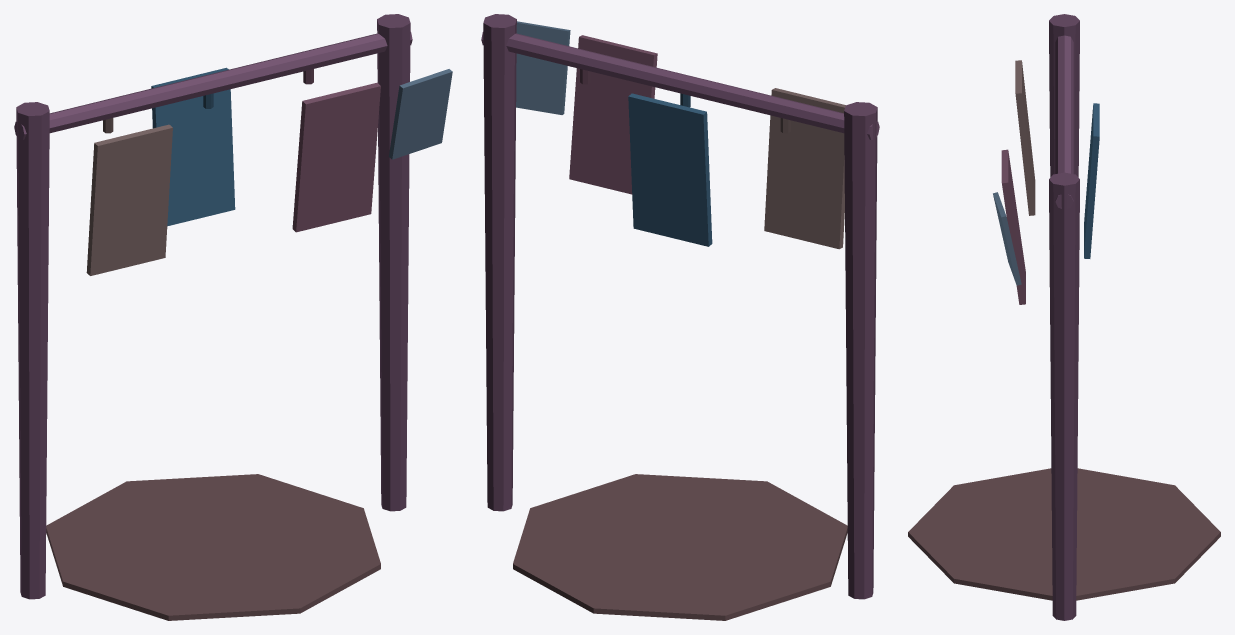
The model's file is prp_drying_rack_a.glb.
3 renders of one model, left to right at view 1: azimuth 30°, elevation 25°; view 2: azimuth 150°, elevation 25°; view 3: azimuth 270°, elevation 25°, orthographic. The views are drawn at different scales.
Parts seen in each view (by area): view 1: lod0__drying_rack_contact, lod0__drying_rack_post_-1, lod0__drying_rack_post_1, lod0__drying_rack_strip_0, lod0__drying_rack_strip_2, lod0__drying_rack_strip_1, lod0__drying_rack_crossbar, lod0__drying_rack_pennant; view 2: lod0__drying_rack_contact, lod0__drying_rack_post_-1, lod0__drying_rack_post_1, lod0__drying_rack_strip_1, lod0__drying_rack_strip_0, lod0__drying_rack_strip_2, lod0__drying_rack_crossbar, lod0__drying_rack_pennant; view 3: lod0__drying_rack_contact, lod0__drying_rack_post_1, lod0__drying_rack_crossbar, lod0__drying_rack_post_-1, lod0__drying_rack_strip_0, lod0__drying_rack_strip_2, lod0__drying_rack_strip_1, lod0__drying_rack_pennant.
Boxes of the visible parts, left/top/right/bottom form: lod0__drying_rack_contact: left=46, top=474, right=380, bottom=620; lod0__drying_rack_post_-1: left=16, top=102, right=49, bottom=599; lod0__drying_rack_post_1: left=377, top=14, right=410, bottom=511; lod0__drying_rack_strip_0: left=86, top=124, right=172, bottom=275; lod0__drying_rack_strip_2: left=292, top=82, right=380, bottom=232; lod0__drying_rack_strip_1: left=151, top=67, right=235, bottom=226; lod0__drying_rack_crossbar: left=14, top=32, right=412, bottom=139; lod0__drying_rack_pennant: left=388, top=69, right=452, bottom=159; lod0__drying_rack_contact: left=513, top=474, right=847, bottom=620; lod0__drying_rack_post_-1: left=844, top=102, right=877, bottom=599; lod0__drying_rack_post_1: left=483, top=14, right=516, bottom=511; lod0__drying_rack_strip_1: left=628, top=93, right=712, bottom=246; lod0__drying_rack_strip_0: left=764, top=88, right=845, bottom=249; lod0__drying_rack_strip_2: left=569, top=35, right=657, bottom=194; lod0__drying_rack_crossbar: left=481, top=32, right=879, bottom=139; lod0__drying_rack_pennant: left=516, top=21, right=570, bottom=114; lod0__drying_rack_contact: left=908, top=468, right=1220, bottom=600; lod0__drying_rack_post_1: left=1049, top=172, right=1079, bottom=620; lod0__drying_rack_crossbar: left=1055, top=35, right=1073, bottom=208; lod0__drying_rack_post_-1: left=1049, top=14, right=1079, bottom=177; lod0__drying_rack_strip_0: left=1015, top=60, right=1035, bottom=215; lod0__drying_rack_strip_2: left=1001, top=149, right=1025, bottom=304; lod0__drying_rack_strip_1: left=1084, top=103, right=1099, bottom=258; lod0__drying_rack_pennant: left=993, top=192, right=1021, bottom=285.
Size of the model in its own units: 1.6 by 1.85 by 1.2.
